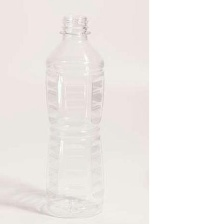bottle: (38, 7, 110, 220)
